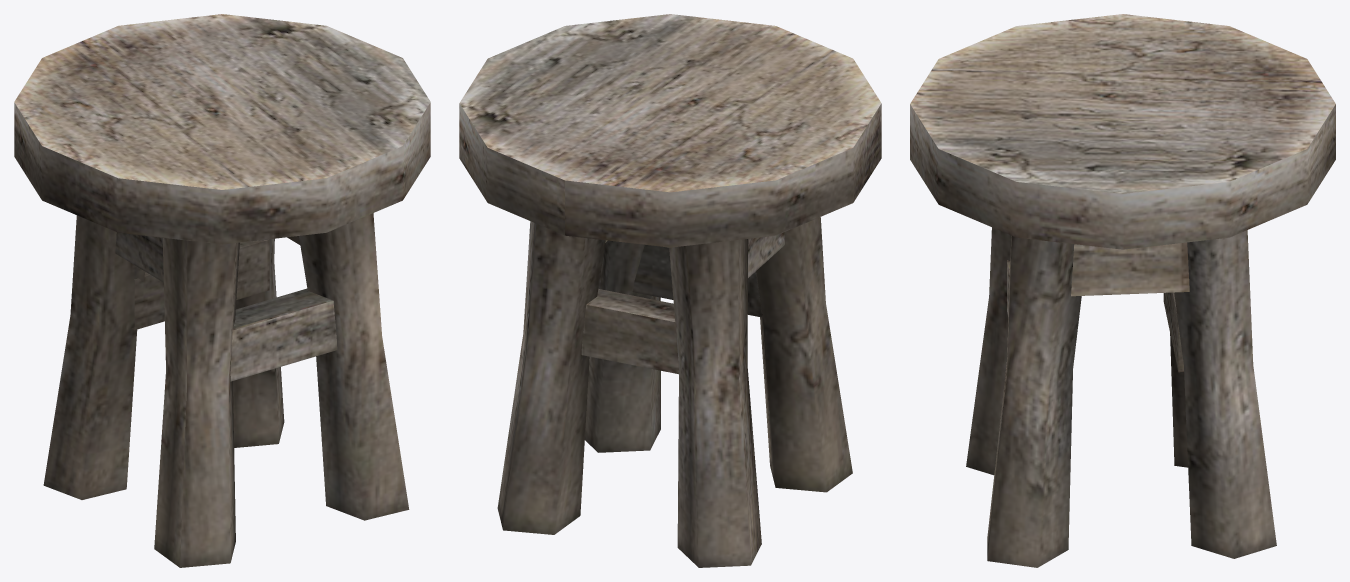
The model's file is stool.fbx.
3 views of the same model, side by side, from view 1: azimuth 30°, elevation 25°; view 2: azimuth 150°, elevation 25°; view 3: azimuth 270°, elevation 25° (orthographic). The views are drawn at different scales.
Visible parts, largest first — view 1: stool; view 2: stool; view 3: stool.
Boxes of the visible parts, x1,y1,x2,y2 form: stool: (14, 14, 430, 567); stool: (459, 14, 881, 567); stool: (910, 14, 1335, 567).
Size of the model in its own units: 27.7 by 27.7 by 28.5.
